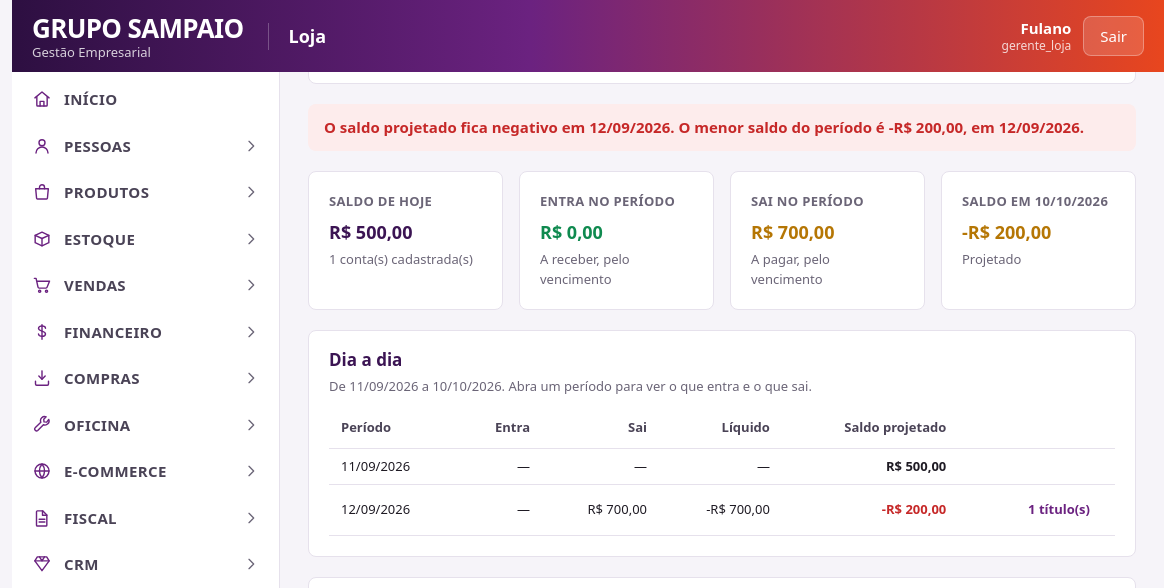
Test: GAP-PRD-094 — a tela responde "tenho caixa para pagar dia 20?" › abre o período e mostra QUAL título sai, com link para a origem
(page scrolled)
What coordinates should you click on to do the following:
click the button with aria-label "Ver os títulos de 12/09/2026"
I would click on:
 (1059, 510)
Its box is [1015,493,1103,526].
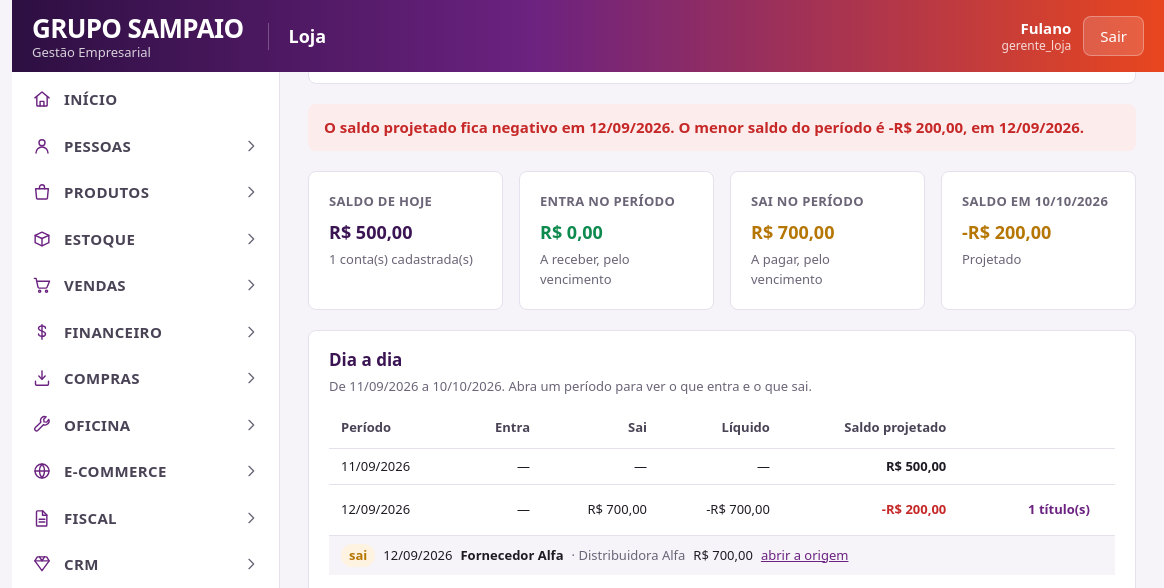
Result: the text "Fornecedor Alfa" is shown at [460,546,564,565]
